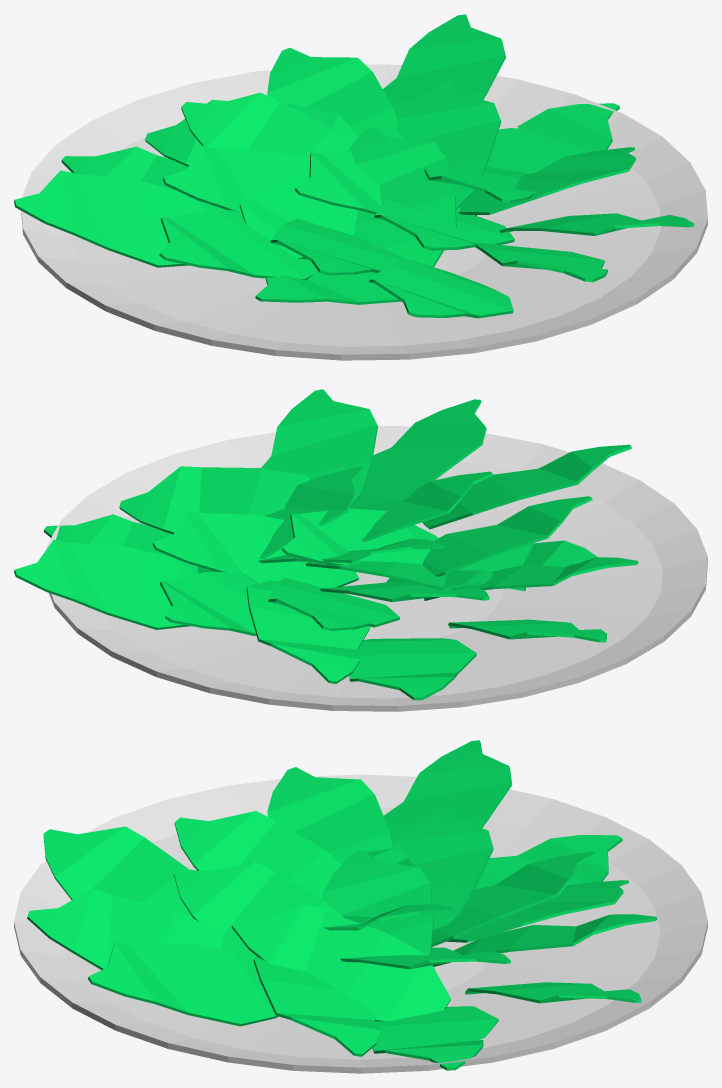
File: slicedSalary.fbx
3 renders of one model, top to bottom at view 1: azimuth 30°, elevation 25°; view 2: azimuth 150°, elevation 25°; view 3: azimuth 270°, elevation 25°, orthographic. The views are drawn at different scales.
Visible parts, largest first — view 1: 실린더, 평면.001, 평면.010, 평면.011, 평면.013, 평면.014, 평면.002, 평면.012, 평면.008, 평면.003, 평면.015, 평면.020 (+10 smaller); view 2: 실린더, 평면.014, 평면.012, 평면.009, 평면.018, 평면.016, 평면.006, 평면.007, 평면.010, 평면.004, 평면.015, 평면.013 (+10 smaller); view 3: 실린더, 평면.019, 평면.018, 평면.015, 평면.016, 평면.004, 평면.002, 평면.017, 평면.001, 평면.005, 평면.003, 평면.009 (+8 smaller).
Part boxes in pixels (x1,y1,x2,y2): 실린더: [21, 64, 707, 360]; 평면.001: [14, 170, 207, 267]; 평면.010: [347, 127, 456, 267]; 평면.011: [181, 92, 352, 159]; 평면.013: [267, 47, 402, 138]; 평면.014: [382, 14, 505, 122]; 평면.002: [159, 209, 314, 279]; 평면.012: [396, 81, 501, 210]; 평면.008: [487, 103, 619, 173]; 평면.003: [163, 146, 309, 211]; 평면.015: [369, 259, 513, 318]; 평면.020: [239, 167, 357, 259]; 실린더: [46, 425, 707, 711]; 평면.014: [14, 540, 195, 629]; 평면.012: [152, 511, 358, 588]; 평면.009: [119, 466, 310, 534]; 평면.018: [261, 389, 377, 508]; 평면.016: [350, 399, 486, 508]; 평면.006: [246, 580, 369, 683]; 평면.007: [349, 638, 476, 700]; 평면.010: [282, 508, 438, 565]; 평면.004: [386, 496, 592, 582]; 평면.015: [422, 444, 631, 529]; 평면.013: [159, 571, 258, 635]; 실린더: [14, 774, 707, 1073]; 평면.019: [231, 903, 450, 1021]; 평면.018: [88, 942, 278, 1026]; 평면.015: [43, 826, 193, 918]; 평면.016: [27, 889, 223, 969]; 평면.004: [174, 811, 341, 899]; 평면.002: [267, 767, 392, 863]; 평면.017: [174, 861, 342, 964]; 평면.001: [384, 740, 512, 845]; 평면.005: [322, 850, 433, 954]; 평면.003: [392, 806, 493, 929]; 평면.009: [253, 957, 381, 1056].
Bounding box in the file's own units: 527 × 65.08 × 527.
